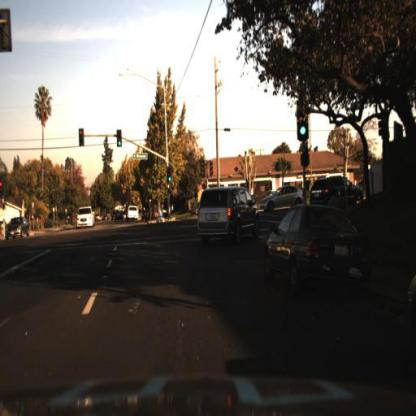car: (261, 203, 370, 288), (196, 185, 263, 245), (258, 183, 309, 219), (307, 175, 365, 202), (4, 216, 33, 242), (76, 204, 96, 230), (126, 204, 141, 227), (114, 207, 127, 228)
pedestrian: (329, 179, 343, 218), (330, 187, 340, 212)
trafficLight: (297, 98, 310, 144)
trafficLight-Green: (116, 130, 125, 150), (168, 166, 174, 187)
trafficLight-RedLeft: (79, 125, 87, 149), (1, 180, 6, 200)
